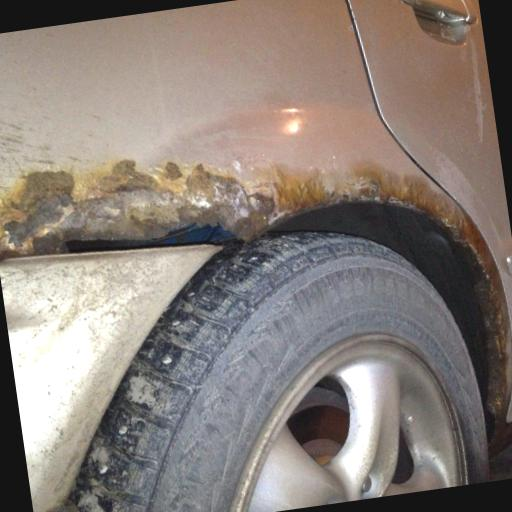corrosion: (0, 146, 307, 258)
